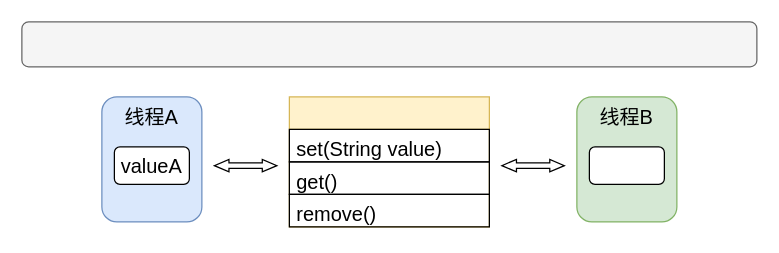
The diagram is 779 pixels wide and 253 high, and some of its shapes have lost their labels. The box of each missing label's shape, as (x1, y1, x2, y2) in pixels:
public static ThreadLocal < String > threadLocal = new ThreadLocal<>();: (21, 21, 757, 67)
threadLocal: (288, 96, 489, 227)
valueB: (588, 146, 664, 184)
